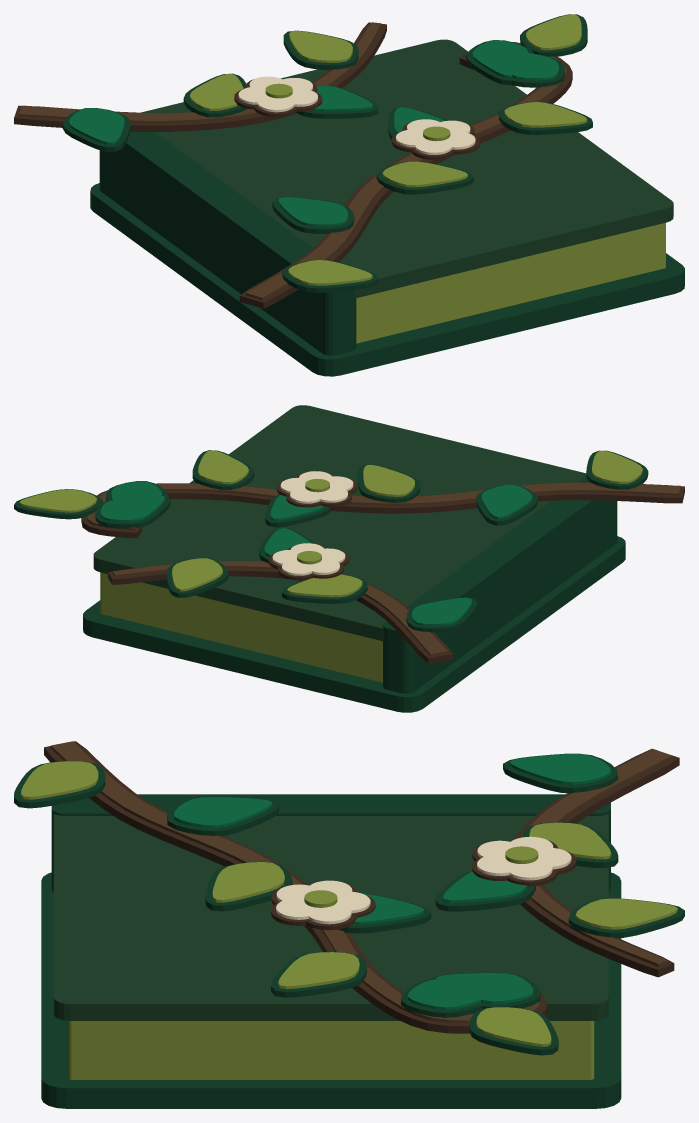
Rendered from book_trepadeira.fbx.
3 views of the same model, one above another, from view 1: azimuth 30°, elevation 25°; view 2: azimuth 150°, elevation 25°; view 3: azimuth 270°, elevation 25° (orthographic). The views are drawn at different scales.
Visible parts, largest first — view 1: book_trepadeira_livro, book_trepadeira; view 2: book_trepadeira_livro, book_trepadeira; view 3: book_trepadeira_livro, book_trepadeira.
Boxes of the visible parts, box(x1,y1,x2,y2) form: book_trepadeira_livro: box(14, 22, 684, 376); book_trepadeira: box(62, 14, 592, 292); book_trepadeira_livro: box(81, 405, 684, 712); book_trepadeira: box(14, 450, 648, 632); book_trepadeira_livro: box(41, 741, 679, 1108); book_trepadeira: box(14, 753, 684, 1055).
Bounding box in the file's own units: 3.61 × 0.687 × 3.24.
1 material, 1 textured.
